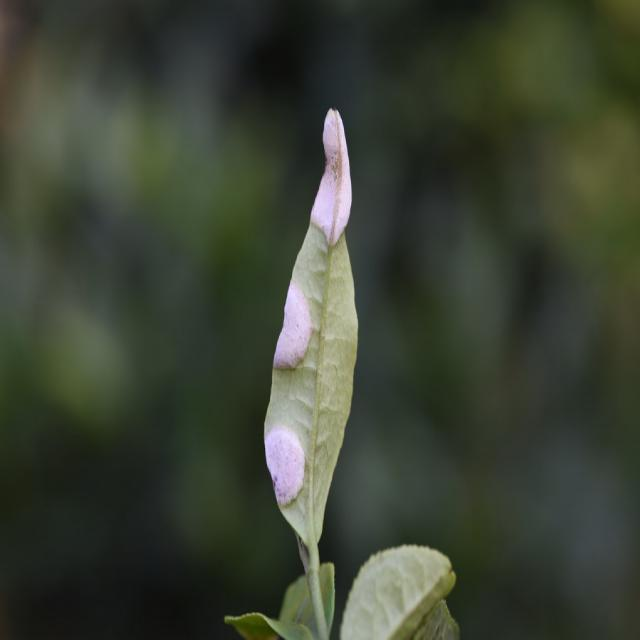Tea cake: (312, 105, 364, 255), (262, 421, 315, 520), (269, 271, 313, 383)
